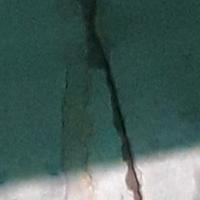crack: (79, 1, 151, 199)
